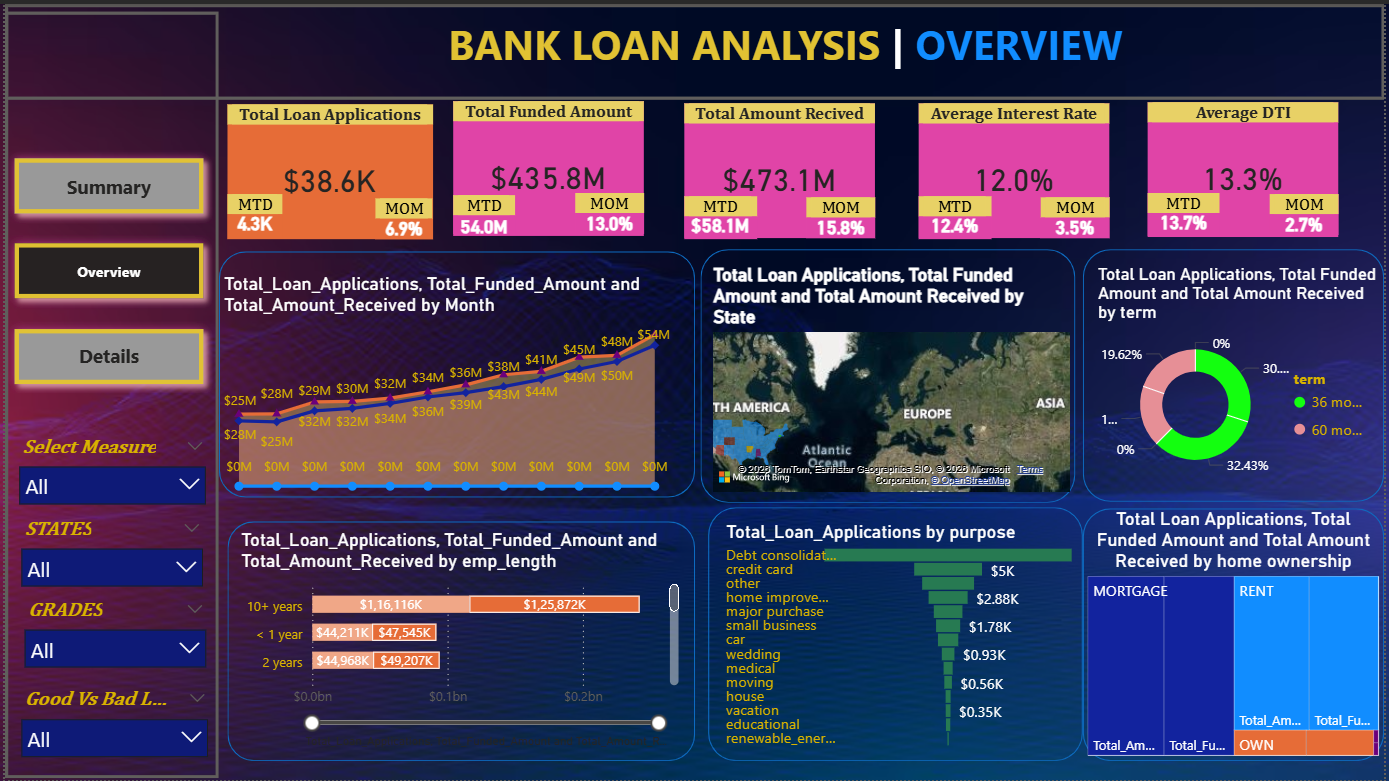

The page's visual inventory and layout, read from the dashboard file:
{"tool":"powerbi","page":{"name":"Overview","canvas":[1280,720],"ordinal":1},"visuals":[{"type":"actionButton","box":[0,0,1280,88.9],"z":0},{"type":"actionButton","box":[0,7,198.4,711.4],"z":1000},{"type":"textbox","box":[389,7,671,60],"z":2000},{"type":"card","title":"Total Loan Applications","fields":{"Values":["Good_Loan_%.Total_Loan_Applications"]},"box":[206.4,93.2,190.4,125.2],"z":3000},{"type":"card","title":"MTD","fields":{"Values":["Good_Loan_%.MTD_Loan_App"]},"box":[206.4,176.3,51.1,42.1],"z":4000},{"type":"card","title":"MOM","fields":{"Values":["Good_Loan_%.MOM_Loan_Applications"]},"box":[343.7,180.4,53.1,38.1],"z":5000},{"type":"card","title":"Total Funded Amount","fields":{"Values":["Good_Loan_%.Total_Funded_Amount"]},"box":[416,90,177,125],"z":6000},{"type":"card","title":"MTD","fields":{"Values":["Good_Loan_%.MTD_Funded_Amount"]},"box":[415.8,177.4,57.1,36.1],"z":7000},{"type":"card","title":"MOM","fields":{"Values":["Good_Loan_%.MOM_Total Funded_Amount"]},"box":[529,175,64,38],"z":8000},{"type":"card","title":"Total Amount Recived","fields":{"Values":["Good_Loan_%.Total_Amount_Received"]},"box":[630,92,177,125],"z":9000},{"type":"card","title":"MTD","fields":{"Values":["Good_Loan_%.MTD_Total_Amount_Recieved"]},"box":[630.2,178.4,67.1,40.1],"z":10000},{"type":"card","title":"MOM","fields":{"Values":["Good_Loan_%.MOM_Total_Amount_Recieved"]},"box":[743,179,64,38],"z":11000},{"type":"card","title":"Average Interest Rate","fields":{"Values":["Good_Loan_%.Average_interest_rate"]},"box":[848,92,177,125],"z":12000},{"type":"card","title":"MTD","fields":{"Values":["Good_Loan_%.MTD_Average_int_rate"]},"box":[847.7,178.4,67.1,40.1],"z":13000},{"type":"card","title":"MOM","fields":{"Values":["Good_Loan_%.MOM AVG int rate"]},"box":[961,179,64,38],"z":14000},{"type":"card","title":"Average DTI","fields":{"Values":["Good_Loan_%.Avarage_DTI"]},"box":[1060,91,177,125],"z":15000},{"type":"card","title":"MTD","fields":{"Values":["Good_Loan_%.MTD _AVARAGE_DTI"]},"box":[1060,175,67,40],"z":16000},{"type":"card","title":"MOM","fields":{"Values":["Good_Loan_%.MOM AVG DTI"]},"box":[1173,176,64,38],"z":17000},{"type":"shape","box":[198.4,229.5,441.9,228.5],"z":18000},{"type":"shape","box":[645.3,227.4,347.7,235.5],"z":19000},{"type":"slicer","fields":{"Values":["financial_loan.address_state"]},"box":[5,471.9,188.4,75.1],"z":20000},{"type":"slicer","fields":{"Values":["financial_loan.grade"]},"box":[8,547.1,188.4,75.1],"z":21000},{"type":"slicer","fields":{"Values":["financial_loan.Good Vs Bad Loan"]},"box":[5,630.2,193.4,81.2],"z":22000},{"type":"slicer","fields":{"Values":["Select Measure.Select Measure"]},"box":[3,395.8,193.4,76.2],"z":23000},{"type":"areaChart","fields":{"Y":["Good_Loan_%.Total_Loan_Applications","Good_Loan_%.Total_Funded_Amount","Good_Loan_%.Total_Amount_Received"],"Category":["financial_loan.issue_date.Variation.Date Hierarchy.Month"]},"box":[198.4,249.5,423.8,208.4],"z":24000},{"type":"shape","box":[1000,227.4,279.6,234.5],"z":25000},{"type":"shape","box":[206.4,479.9,433.9,222.4],"z":26000},{"type":"shape","box":[652.3,466.9,347.7,235.5],"z":27000},{"type":"shape","box":[1000,467.9,279.6,234.5],"z":28000},{"type":"filledMap","title":"Total Loan Applications, Total Funded Amount and Total Amount Received by State","fields":{"Category":["financial_loan.address_state"]},"box":[652.3,241.5,340.7,216.4],"z":29000},{"type":"donutChart","title":"Total Loan Applications, Total Funded Amount and Total Amount Received by term","fields":{"Y":["Good_Loan_%.Total_Loan_Applications","Good_Loan_%.Total_Funded_Amount","Good_Loan_%.Total_Amount_Received"],"Category":["financial_loan.term"]},"box":[1009,241.5,270.5,208.4],"z":30000},{"type":"barChart","fields":{"Y":["Good_Loan_%.Total_Loan_Applications","Good_Loan_%.Total_Funded_Amount","Good_Loan_%.Total_Amount_Received"],"Category":["financial_loan.emp_length"]},"box":[214.4,487,415.8,207.4],"z":31000},{"type":"funnel","fields":{"Y":["Good_Loan_%.Total_Loan_Applications"],"Category":["financial_loan.purpose"]},"box":[664.3,479.9,335.7,214.4],"z":32000},{"type":"treemap","title":"Total Loan Applications, Total Funded Amount and Total Amount Received by home ownership","fields":{"Values":["Good_Loan_%.Total_Loan_Applications","Good_Loan_%.Total_Funded_Amount","Good_Loan_%.Total_Amount_Received"],"Group":["financial_loan.home_ownership"]},"box":[1000,467.9,279.6,234.5],"z":33000},{"type":"pageNavigator","box":[0,134.3,193.4,229.5],"z":34000},{"type":"image","box":[0,0,193.4,136.3],"z":35000}]}

Visuals, with their boxes in screenshot pixels (x1, y1, x2, y2), scaled from the page's 1280x720 canvas onto the 1389x781 screenshot:
actionButton: select_region(0, 0, 1388, 96)
actionButton: select_region(0, 8, 215, 779)
textbox: select_region(422, 8, 1150, 73)
"Total Loan Applications" card: select_region(224, 101, 431, 237)
"MTD" card: select_region(224, 191, 279, 237)
"MOM" card: select_region(373, 196, 431, 237)
"Total Funded Amount" card: select_region(451, 98, 643, 233)
"MTD" card: select_region(451, 192, 513, 232)
"MOM" card: select_region(574, 190, 643, 231)
"Total Amount Recived" card: select_region(684, 100, 876, 235)
"MTD" card: select_region(684, 194, 757, 237)
"MOM" card: select_region(806, 194, 876, 235)
"Average Interest Rate" card: select_region(920, 100, 1112, 235)
"MTD" card: select_region(920, 194, 993, 237)
"MOM" card: select_region(1043, 194, 1112, 235)
"Average DTI" card: select_region(1150, 99, 1342, 234)
"MTD" card: select_region(1150, 190, 1223, 233)
"MOM" card: select_region(1273, 191, 1342, 232)
shape: select_region(215, 249, 695, 497)
shape: select_region(700, 247, 1078, 502)
slicer - financial_loan.address_state: select_region(5, 512, 210, 593)
slicer - financial_loan.grade: select_region(9, 593, 213, 675)
slicer - financial_loan.Good Vs Bad Loan: select_region(5, 684, 215, 772)
slicer - Select Measure.Select Measure: select_region(3, 429, 213, 512)
areaChart - Good_Loan_%.Total_Loan_Applications x Good_Loan_%.Total_Funded_Amount: select_region(215, 271, 675, 497)
shape: select_region(1085, 247, 1388, 501)
shape: select_region(224, 521, 695, 762)
shape: select_region(708, 506, 1085, 762)
shape: select_region(1085, 508, 1388, 762)
"Total Loan Applications, Total Funded Amount and Total Amount Received by State" filledMap: select_region(708, 262, 1078, 497)
"Total Loan Applications, Total Funded Amount and Total Amount Received by term" donutChart: select_region(1095, 262, 1388, 488)
barChart - Good_Loan_%.Total_Loan_Applications x Good_Loan_%.Total_Funded_Amount: select_region(233, 528, 684, 753)
funnel - Good_Loan_%.Total_Loan_Applications x financial_loan.purpose: select_region(721, 521, 1085, 753)
"Total Loan Applications, Total Funded Amount and Total Amount Received by home ownership" treemap: select_region(1085, 508, 1388, 762)
pageNavigator: select_region(0, 146, 210, 395)
image: select_region(0, 0, 210, 148)
